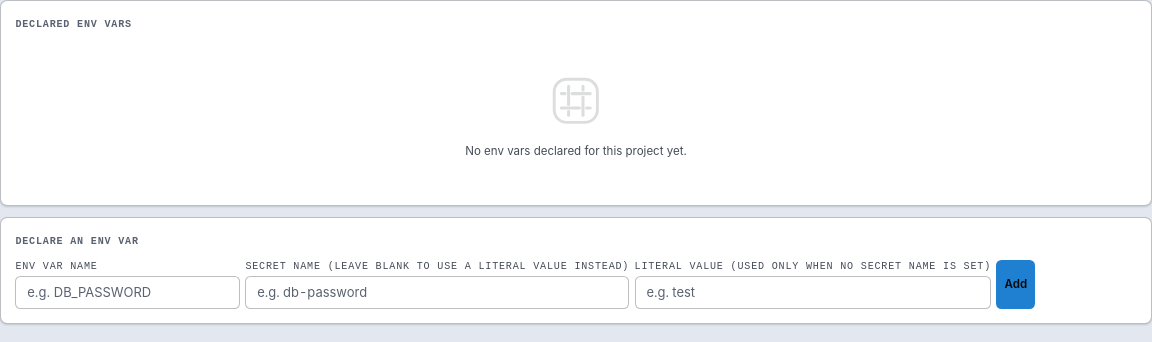
ProjectSecretsPanel (issue #258) › adding a duplicate env var name shows a clear duplicate error rather than silently no-oping
Type "DB_PASSWORD" into the field with test id "env-add-name" at point(128, 292), box [15,276,240,309]
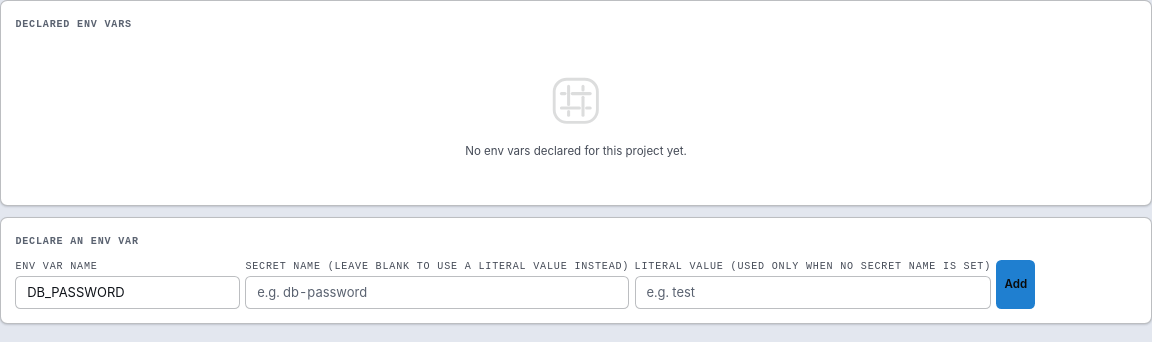
Type "db-password" into the field with test id "env-add-secret" at point(437, 292), box [245,276,629,309]
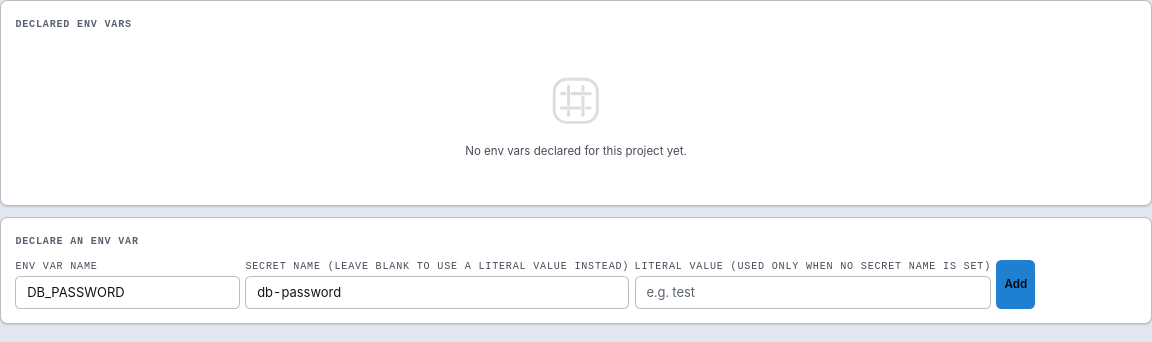
Click the button with test id "env-add-submit" at point(1016, 284), box [996,260,1035,309]
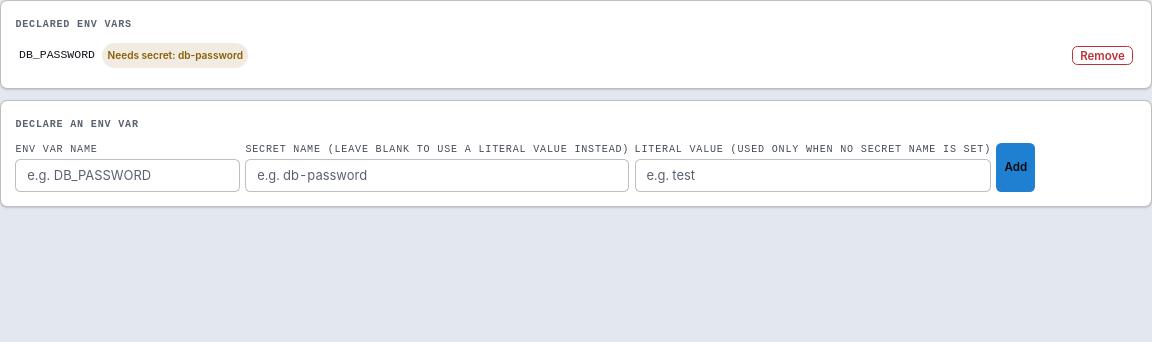
Type "DB_PASSWORD" into the field with test id "env-add-name" at point(128, 175), box [15,159,240,192]
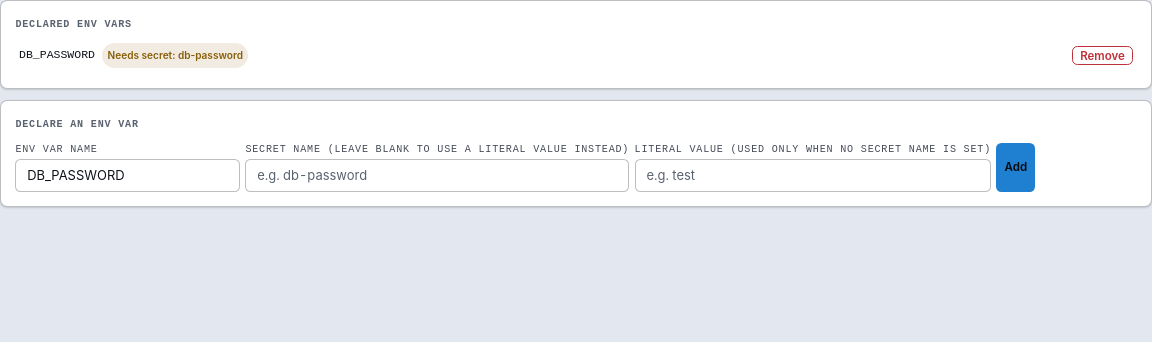
Type "db-password" into the field with test id "env-add-secret" at point(437, 175), box [245,159,629,192]
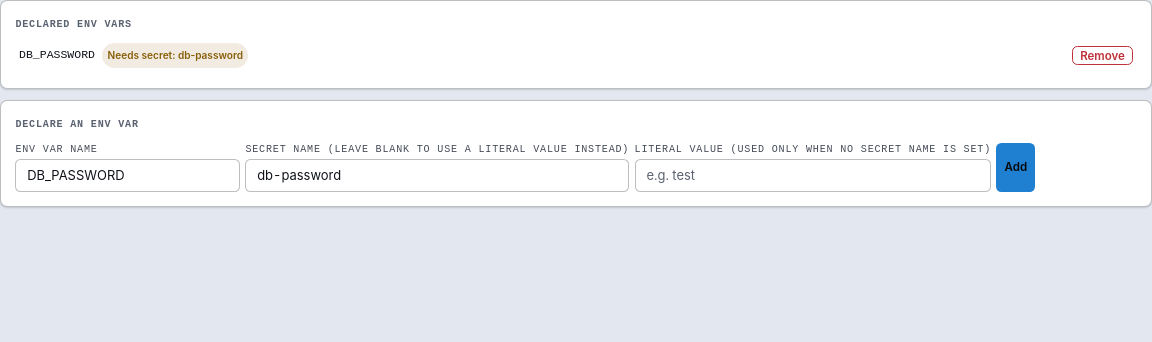
Click the button with test id "env-add-submit" at point(1016, 167), box [996,143,1035,192]
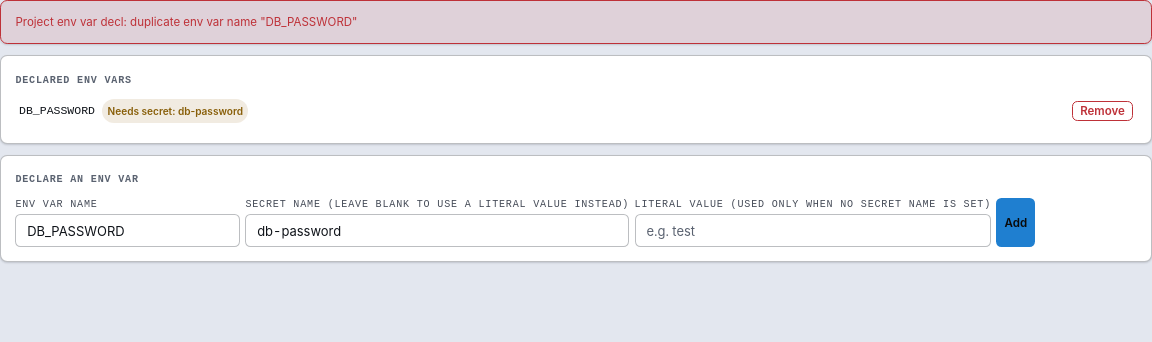
Check: the message shows "duplicate", box [15,15,358,29]
